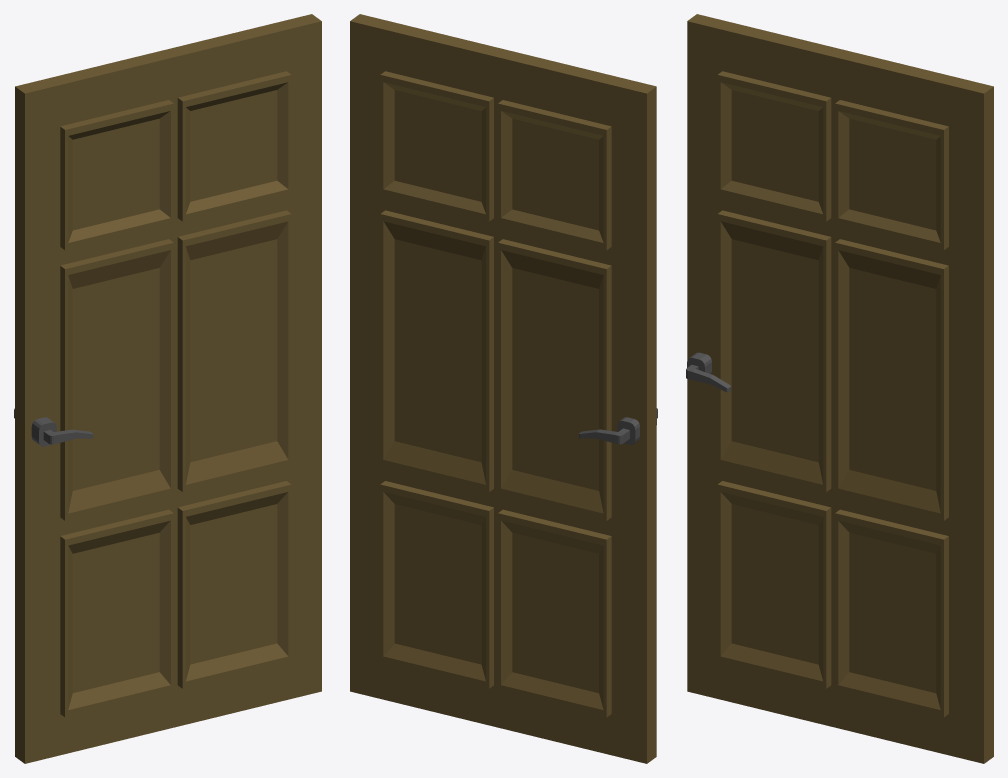
Rendered from usa casa.fbx.
3 views of the same model, side by side, from view 1: azimuth 30°, elevation 25°; view 2: azimuth 150°, elevation 25°; view 3: azimuth 330°, elevation 25° (orthographic).
Visible parts, largest first — view 1: Cube.053; view 2: Cube.053; view 3: Cube.053.
Part boxes in pixels (x1,y1,x2,y2): Cube.053: (14,14,321,763); Cube.053: (350,14,657,763); Cube.053: (686,14,993,763).
Size of the model in its own units: 123 by 266 by 27.42.
